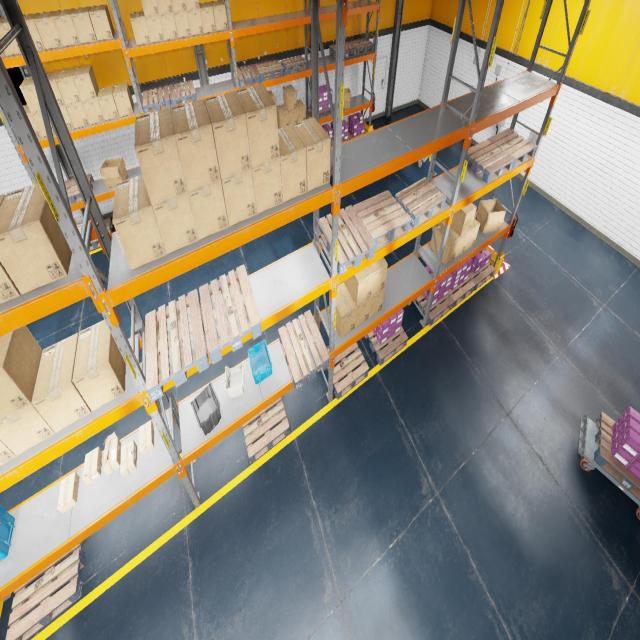box: (0, 183, 72, 294), (31, 333, 91, 433), (0, 352, 55, 456), (134, 108, 188, 206), (112, 175, 166, 270), (72, 319, 125, 412), (171, 99, 221, 192), (204, 91, 252, 179), (0, 325, 42, 419), (235, 84, 280, 168), (152, 193, 199, 254), (292, 117, 330, 191), (188, 180, 229, 240), (278, 125, 307, 202), (0, 194, 20, 303), (220, 168, 256, 226), (252, 158, 283, 214), (329, 282, 356, 338), (430, 220, 460, 265), (344, 265, 373, 306), (34, 11, 63, 49), (444, 203, 477, 236), (475, 198, 506, 233), (53, 8, 80, 46), (346, 287, 371, 328), (444, 220, 470, 258), (56, 67, 81, 105), (73, 64, 99, 100), (70, 7, 96, 43), (89, 4, 114, 41), (58, 472, 80, 513), (0, 16, 21, 55), (23, 13, 45, 50), (100, 158, 128, 187), (103, 432, 121, 476), (97, 85, 119, 121), (112, 82, 134, 117), (82, 92, 104, 125), (83, 447, 102, 485), (20, 76, 40, 112), (130, 11, 151, 45), (370, 257, 388, 296), (65, 101, 90, 129), (46, 71, 65, 106), (120, 440, 137, 478), (31, 111, 55, 137), (23, 104, 41, 138), (210, 0, 228, 31), (145, 15, 165, 42), (159, 12, 178, 40), (199, 2, 216, 33), (139, 420, 154, 455), (465, 218, 480, 251), (173, 11, 191, 38), (368, 288, 384, 318), (187, 8, 204, 36), (0, 440, 16, 465), (59, 105, 74, 130), (283, 85, 297, 110), (276, 104, 288, 128), (141, 0, 159, 16), (0, 18, 7, 57), (284, 105, 297, 125), (156, 0, 173, 14), (171, 0, 187, 12), (297, 99, 305, 122), (343, 88, 351, 108), (185, 0, 199, 9), (268, 90, 275, 103)
pallets: (6, 542, 85, 640), (145, 289, 209, 401), (199, 264, 262, 364), (594, 412, 640, 501), (278, 310, 329, 390), (319, 205, 375, 275), (353, 190, 411, 249), (242, 397, 290, 464), (395, 177, 446, 228), (327, 342, 369, 399), (466, 139, 514, 184), (487, 128, 537, 169), (364, 326, 408, 366), (412, 293, 454, 326), (58, 173, 94, 204), (448, 276, 475, 308), (89, 218, 113, 251), (143, 86, 171, 114), (168, 80, 196, 107), (469, 262, 495, 290), (255, 59, 284, 81), (237, 64, 261, 88), (280, 55, 308, 75), (348, 38, 374, 55), (329, 42, 356, 58), (310, 104, 334, 118), (348, 132, 365, 139), (342, 138, 349, 142)
